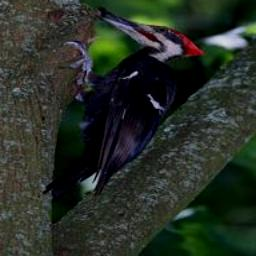Woodpecker: (43, 9, 207, 202)
